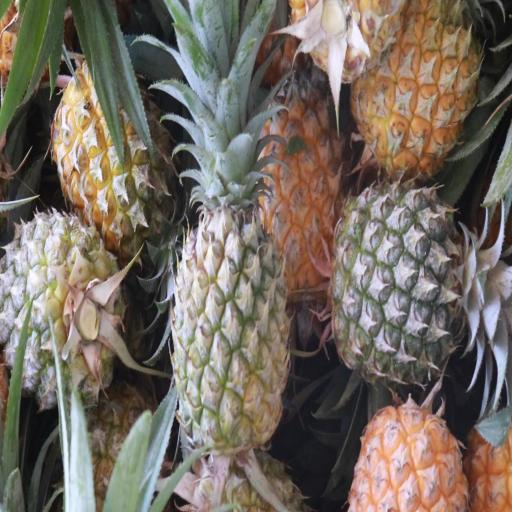------------------------------: (1, 212, 124, 403), (59, 42, 176, 241)
Pineapple - v8 v1: (351, 0, 478, 170), (262, 72, 347, 288), (349, 394, 470, 512)
